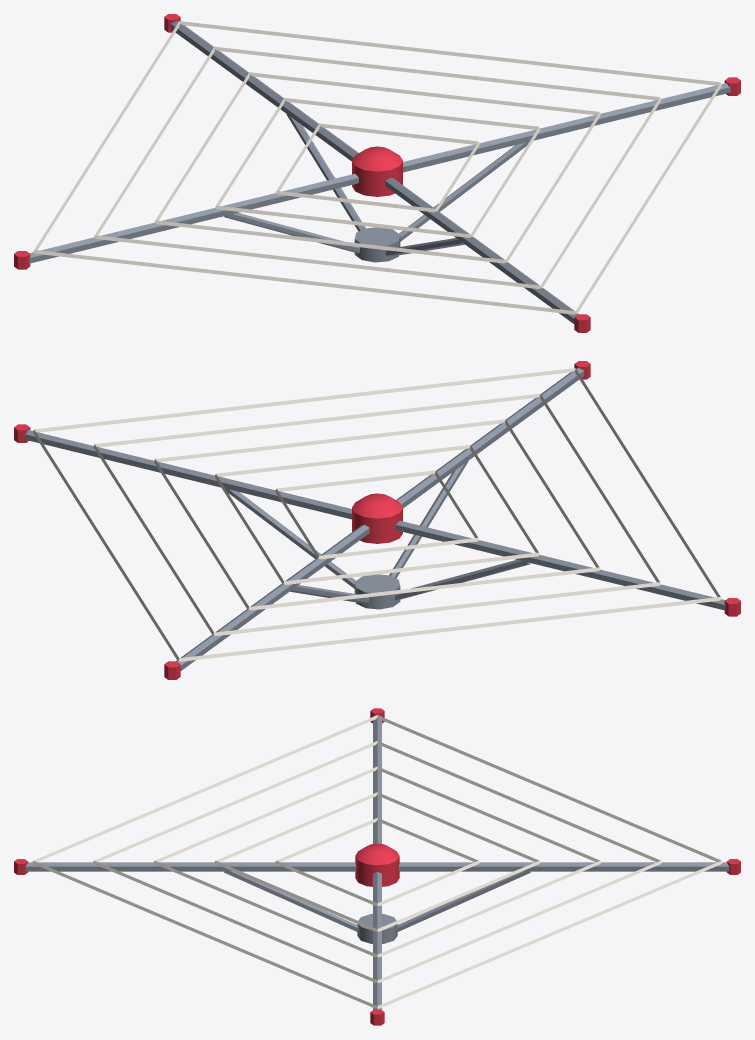
Rendered from RotaryArms.fbx.
3 renders of one model, top to bottom at view 1: azimuth 30°, elevation 25°; view 2: azimuth 150°, elevation 25°; view 3: azimuth 270°, elevation 25°, orthographic. The views are drawn at different scales.
Visible parts, largest first — view 1: RotaryArms; view 2: RotaryArms; view 3: RotaryArms.
Boxes of the visible parts, x1,y1,x2,y2 form: RotaryArms: [14, 14, 740, 332]; RotaryArms: [14, 361, 740, 679]; RotaryArms: [14, 708, 740, 1025].
Bounding box in the file's own units: 7.16 × 0.95 × 7.18.
